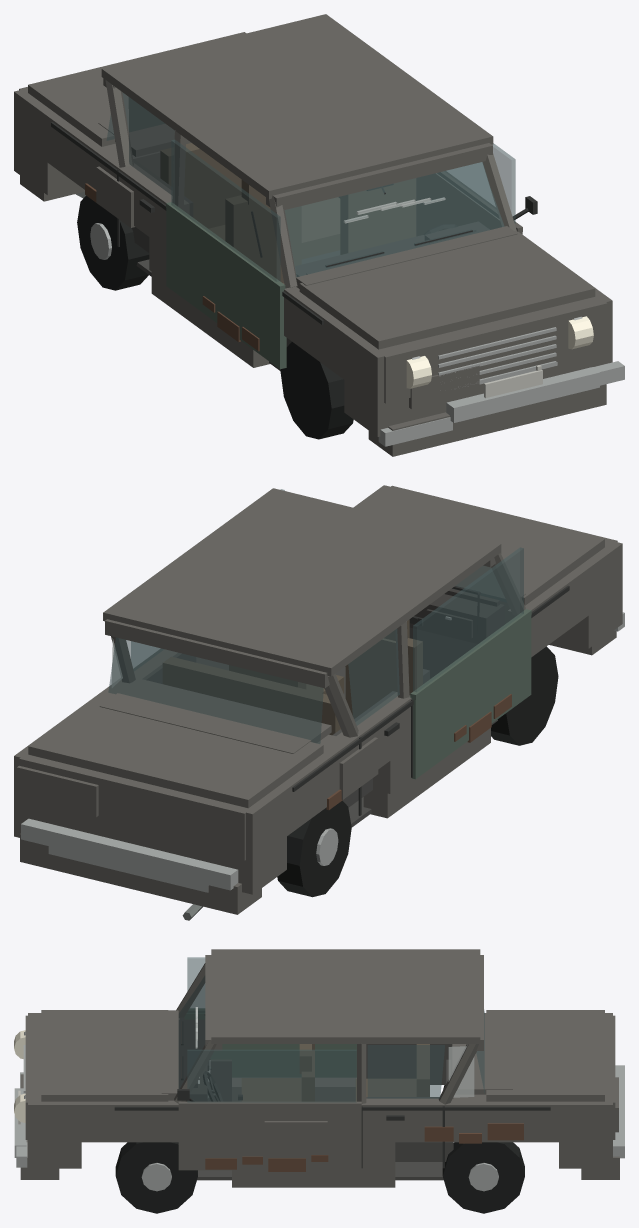
File: LastRouteCar3D.fbx
The picture shows the model from 3 angles, top to bottom: view 1: azimuth 30°, elevation 25°; view 2: azimuth 150°, elevation 25°; view 3: azimuth 270°, elevation 25°; orthographic projection. The views are drawn at different scales.
Visible parts, largest first — view 1: GEO_BodyShell, GEO_Greenhouse, GEO_Glass, GEO_DoorPassengerPanel, GEO_DoorPassengerGlass, GEO_SeatRear, GEO_Bumpers, GEO_WheelFR, GEO_Pillars, GEO_SeatDriver, GEO_SeatPassenger, GEO_WheelRR (+10 smaller); view 2: GEO_BodyShell, GEO_Greenhouse, GEO_Glass, GEO_DoorPassengerPanel, GEO_DoorPassengerGlass, GEO_Bumpers, GEO_SeatRear, GEO_Dents, GEO_WheelRR, GEO_SeatPassenger, GEO_Pillars, GEO_WheelFR (+7 smaller); view 3: GEO_BodyShell, GEO_Greenhouse, GEO_DoorDriverPanel, GEO_DoorDriverGlass, GEO_Glass, GEO_InteriorShell, GEO_WheelRL, GEO_DoorPassengerPanel, GEO_WheelFL, GEO_Pillars, GEO_DoorDriverDent, GEO_Trim (+13 smaller).
Part boxes in pixels (bbox=[...]): GEO_BodyShell: bbox=[14, 32, 612, 456]; GEO_Greenhouse: bbox=[98, 14, 517, 288]; GEO_Glass: bbox=[106, 92, 504, 276]; GEO_DoorPassengerPanel: bbox=[166, 202, 286, 369]; GEO_DoorPassengerGlass: bbox=[171, 139, 280, 281]; GEO_SeatRear: bbox=[160, 143, 340, 259]; GEO_Bumpers: bbox=[378, 361, 624, 446]; GEO_WheelFR: bbox=[280, 342, 353, 439]; GEO_Pillars: bbox=[105, 80, 516, 288]; GEO_SeatDriver: bbox=[340, 178, 416, 254]; GEO_SeatPassenger: bbox=[225, 180, 301, 283]; GEO_WheelRR: bbox=[77, 195, 149, 290]; GEO_BodyShell: bbox=[14, 485, 622, 914]; GEO_Greenhouse: bbox=[99, 488, 525, 753]; GEO_Glass: bbox=[108, 565, 506, 743]; GEO_DoorPassengerPanel: bbox=[410, 609, 531, 779]; GEO_DoorPassengerGlass: bbox=[413, 547, 523, 691]; GEO_Bumpers: bbox=[21, 612, 624, 892]; GEO_SeatRear: bbox=[162, 656, 340, 735]; GEO_Dents: bbox=[16, 737, 378, 817]; GEO_WheelRR: bbox=[277, 800, 351, 897]; GEO_SeatPassenger: bbox=[345, 619, 422, 718]; GEO_Pillars: bbox=[111, 553, 525, 737]; GEO_WheelFR: bbox=[491, 646, 558, 745]; GEO_BodyShell: bbox=[20, 1010, 619, 1187]; GEO_Greenhouse: bbox=[161, 949, 512, 1100]; GEO_DoorDriverPanel: bbox=[178, 1101, 361, 1170]; GEO_DoorDriverGlass: bbox=[187, 1049, 356, 1102]; GEO_Glass: bbox=[178, 976, 484, 1098]; GEO_InteriorShell: bbox=[208, 1044, 453, 1161]; GEO_WheelRL: bbox=[442, 1142, 524, 1213]; GEO_DoorPassengerPanel: bbox=[184, 1008, 356, 1077]; GEO_WheelFL: bbox=[115, 1142, 197, 1213]; GEO_Pillars: bbox=[174, 963, 478, 1104]; GEO_DoorDriverDent: bbox=[264, 1121, 327, 1154]; GEO_Trim: bbox=[114, 1021, 550, 1168].
Bounding box in the file's own units: 198 × 162 × 505.
